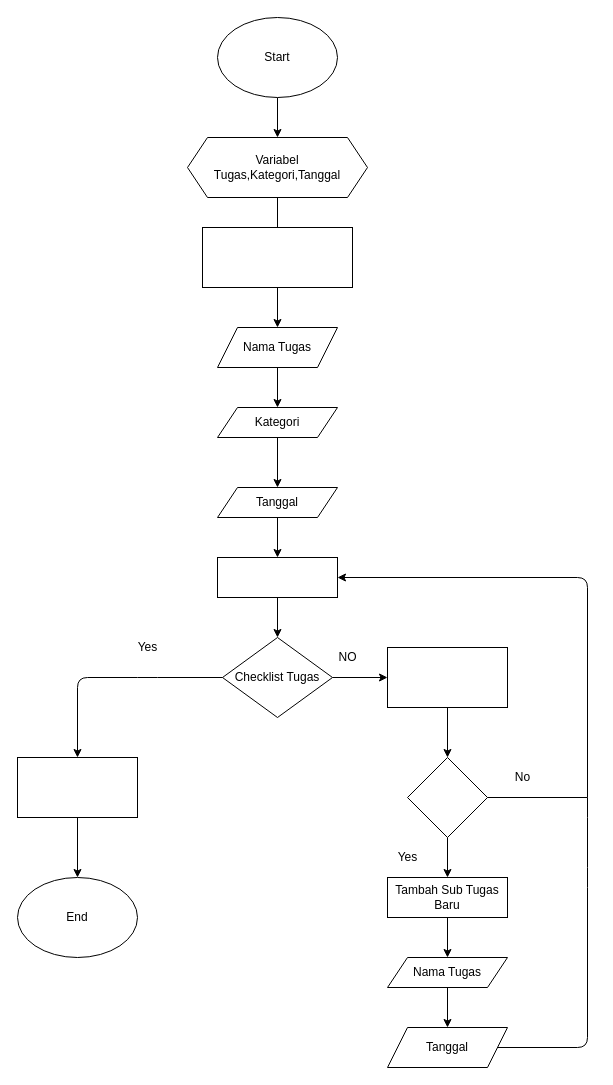
This 613x1085 diagram has some shape labels left out. Here are the shapes that lost their labels. From the top down, the centre of each, then its label:
At point (277, 257): "Tambah Tugas Baru".
At point (277, 577): "Display Tugas".
At point (447, 677): "Pilih Tugas".
At point (77, 787): "Tanda Selesai".
At point (447, 797): "Tambah Sub Tugas".
